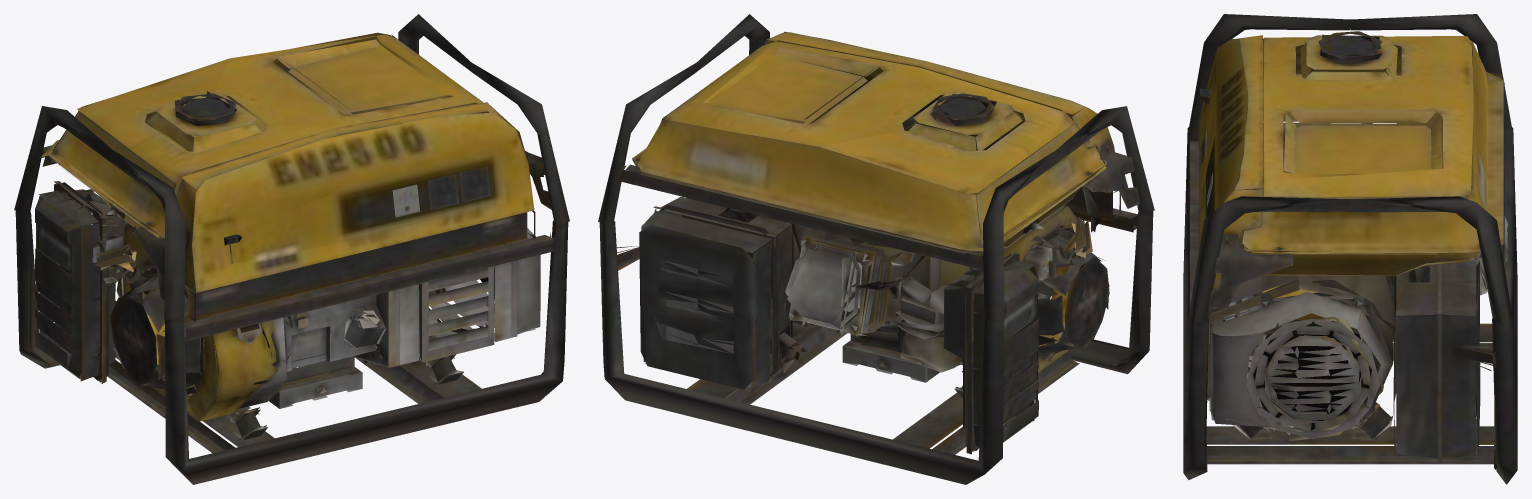
File: portable_generator.glb
3 renders of one model, left to right at view 1: azimuth 30°, elevation 25°; view 2: azimuth 150°, elevation 25°; view 3: azimuth 270°, elevation 25°, orthographic. The views are drawn at different scales.
Visible parts, largest first — view 1: portable_generator; view 2: portable_generator; view 3: portable_generator.
Part boxes in pixels (x1,y1,x2,y2): portable_generator: [14, 14, 569, 484]; portable_generator: [598, 14, 1154, 484]; portable_generator: [1183, 14, 1517, 484].
Bounding box in the file's own units: 0.8217 × 0.577 × 0.5657.
Materials: 2 (2 with a texture image).
